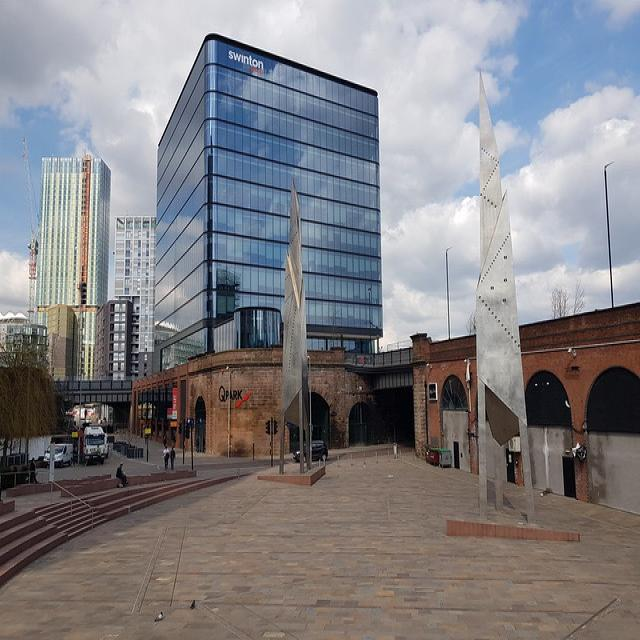Normal_building: (146, 29, 388, 392), (37, 150, 108, 375)
